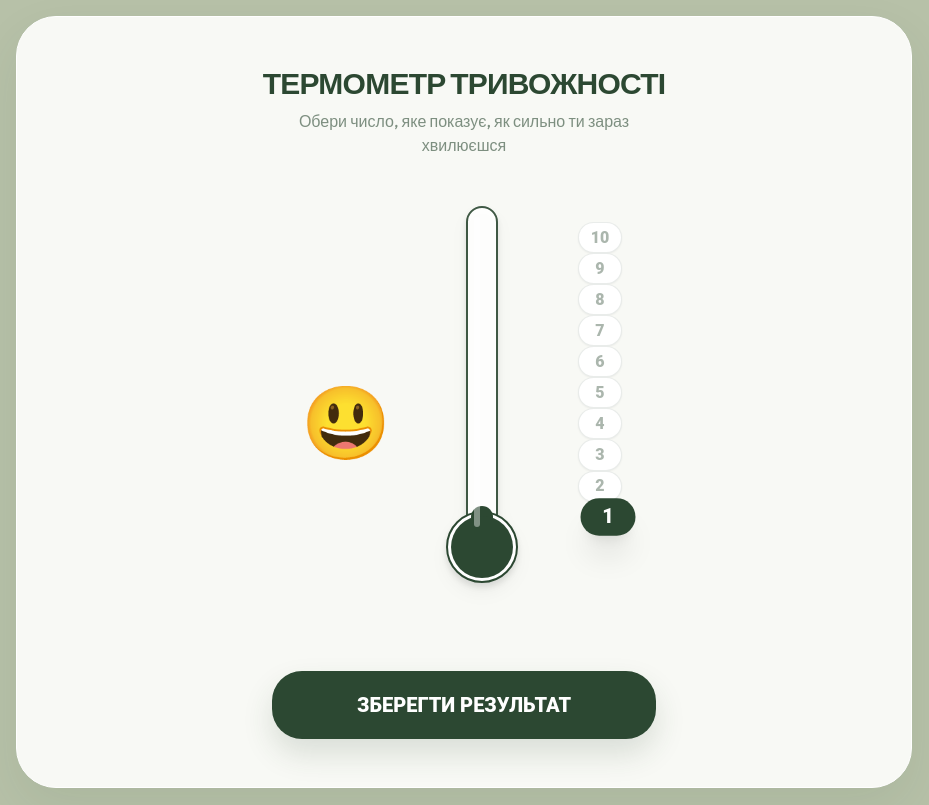
Test: ChildrenAnxietyMeter › shows loading state while saving
Click the button "ЗБЕРЕГТИ РЕЗУЛЬТАТ" at (464, 705), box [272,671,656,739]
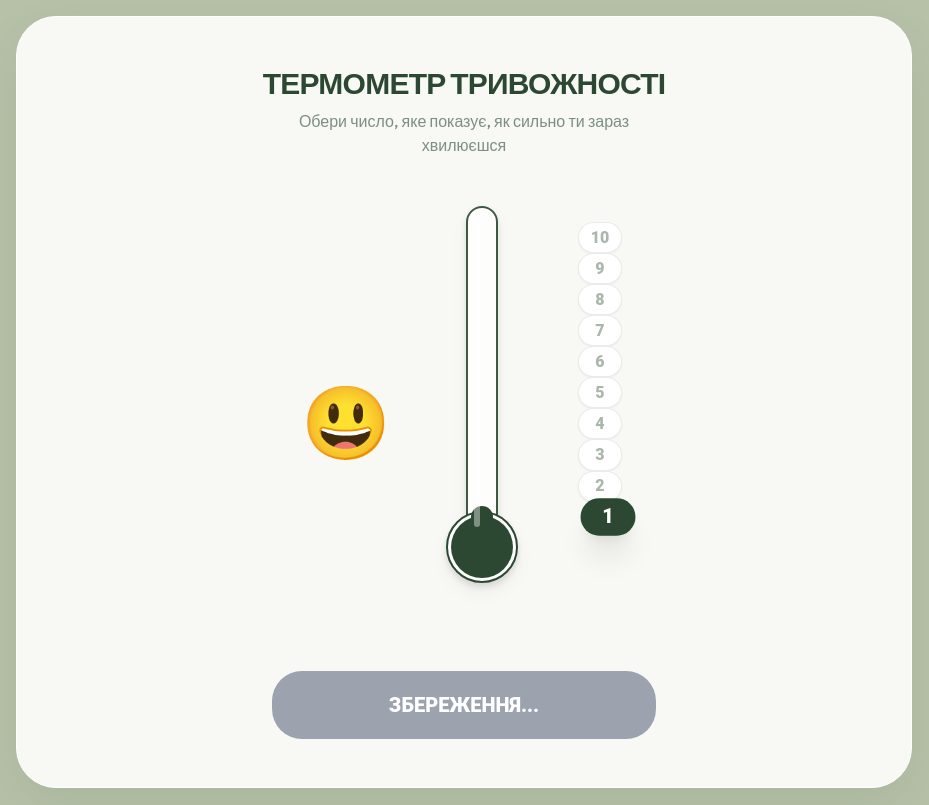
Expected: the button "ЗБЕРЕЖЕННЯ..." is shown, [272,671,656,739]
